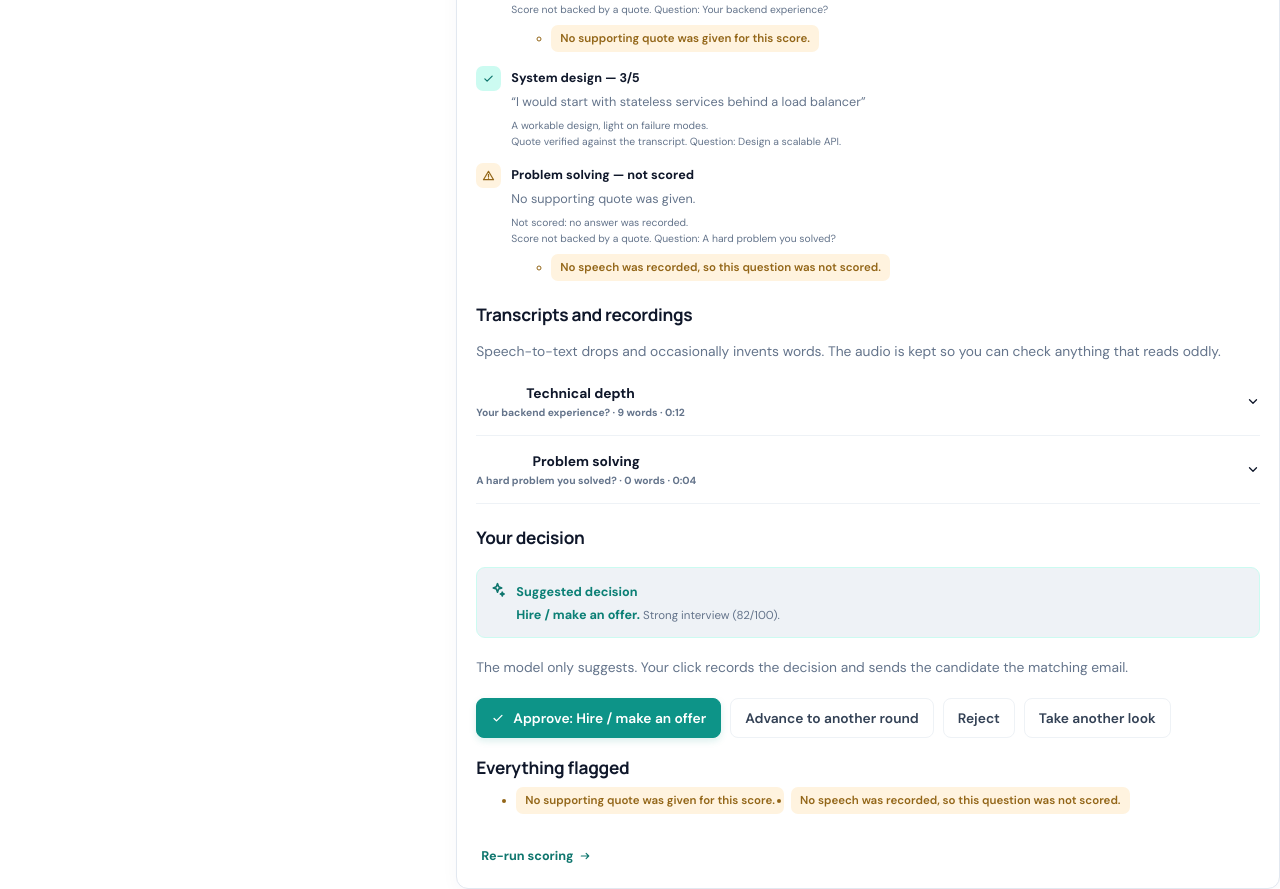
ReviewPage › resumes the paused decision graph when the reviewer approves
The image size is (1280, 889).
(page scrolled)
Click the button "Approve: Hire / make an offer": [599, 718] box [476,698,721,738]
(page scrolled)
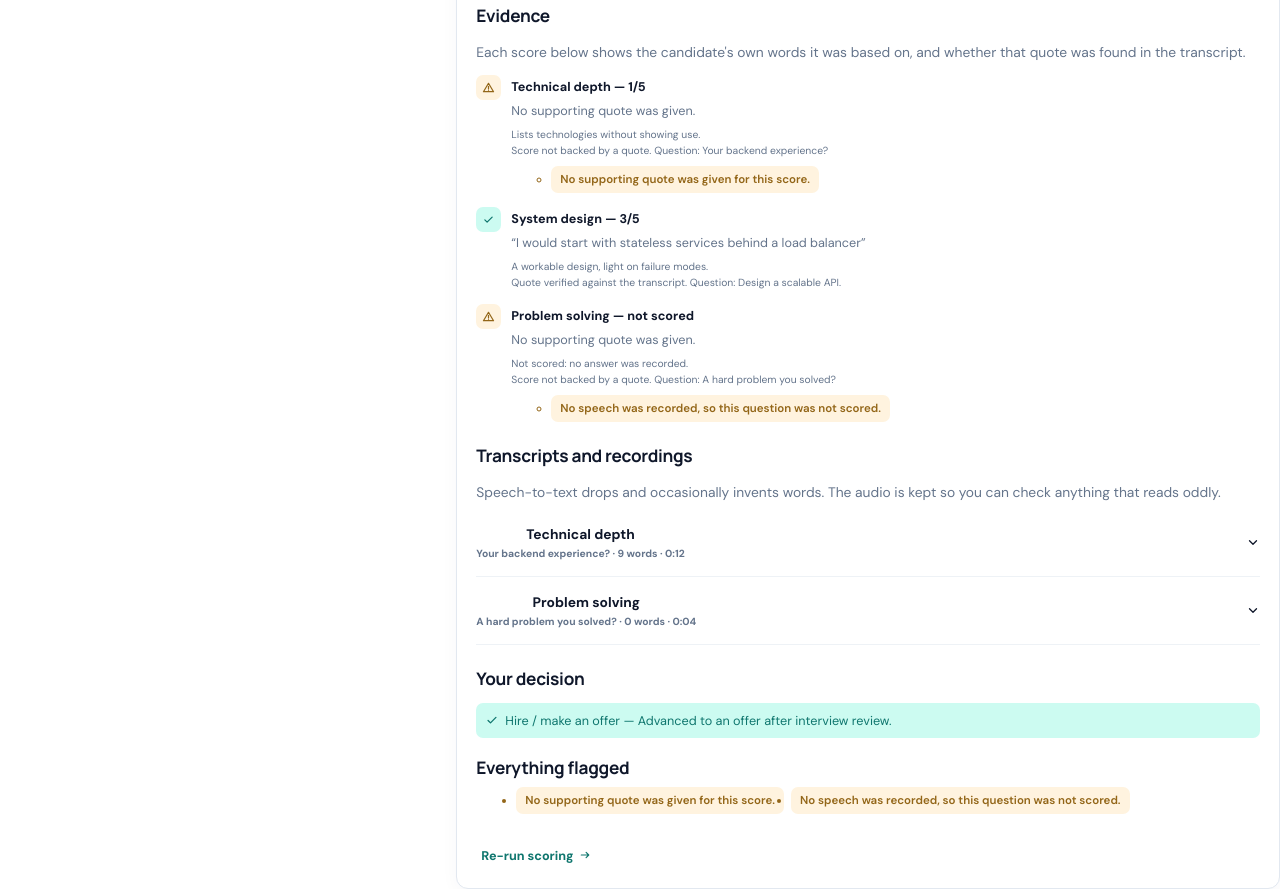
Expected: the text "Advanced to an offer" is shown, [505,712,892,728]
